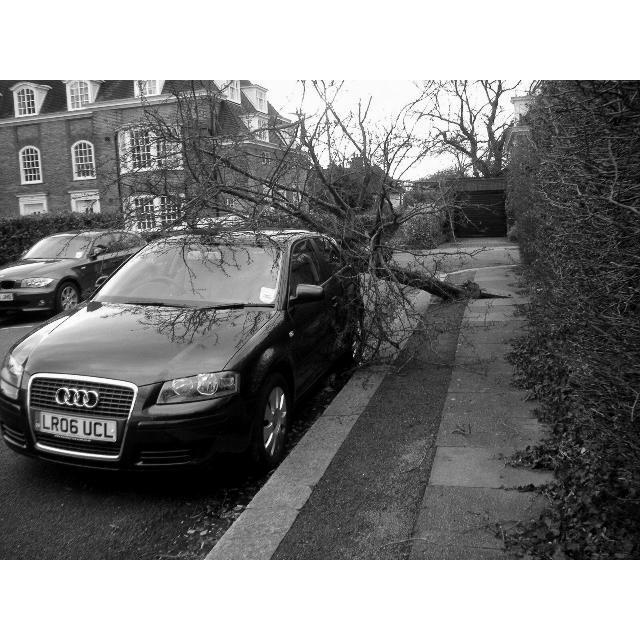roof-dent: (150, 222, 340, 247)
